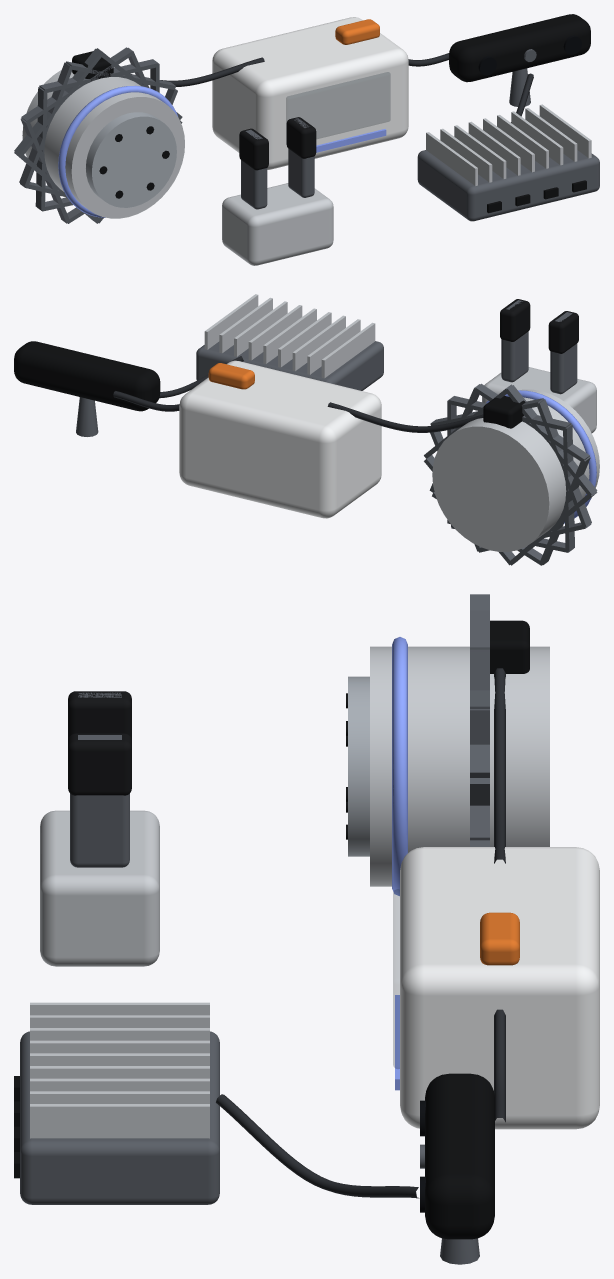
File: robotModules.glb
The picture shows the model from 3 angles, top to bottom: view 1: azimuth 30°, elevation 25°; view 2: azimuth 150°, elevation 25°; view 3: azimuth 270°, elevation 25°; orthographic projection. The views are drawn at different scales.
Parts seen in each view (by area): view 1: pack, housing, computeModule, base, output, case, actuator, body, window, fingerB, fingerA, encoder (+6 smaller); view 2: pack, housing, computeModule, actuator, body, case, fingerA, fingerB, base, encoder, linkActBat, connector (+3 smaller); view 3: pack, housing, computeModule, case, base, body, fingerB, actuator, output, encoder, fingerA, linkSenCmp (+6 smaller).
Boxes of the visible parts, x1,y1,x2,y2 form: pack: [212, 17, 408, 169]; housing: [22, 67, 184, 218]; computeModule: [426, 104, 591, 185]; base: [222, 183, 333, 265]; output: [86, 112, 176, 207]; case: [417, 150, 599, 221]; actuator: [14, 47, 182, 223]; body: [449, 14, 590, 82]; window: [286, 72, 390, 143]; fingerB: [286, 117, 316, 197]; fingerA: [239, 128, 268, 209]; encoder: [58, 85, 177, 217]; pack: [179, 360, 381, 518]; housing: [432, 389, 599, 551]; computeModule: [204, 294, 375, 378]; actuator: [424, 383, 597, 565]; body: [14, 341, 160, 411]; case: [196, 341, 383, 390]; fingerA: [548, 311, 578, 394]; fingerB: [500, 299, 530, 382]; base: [482, 367, 596, 433]; encoder: [486, 390, 596, 523]; linkActBat: [327, 402, 483, 432]; connector: [483, 396, 525, 428]; pack: [400, 847, 599, 1129]; housing: [370, 646, 549, 886]; computeModule: [30, 1002, 209, 1138]; case: [20, 1031, 219, 1204]; base: [40, 810, 159, 966]; body: [425, 1073, 494, 1239]; fingerB: [68, 733, 131, 867]; actuator: [470, 594, 489, 846]; output: [346, 676, 369, 856]; encoder: [392, 637, 407, 896]; fingerA: [68, 691, 131, 739]; linkSenCmp: [216, 1094, 419, 1198].
Bounding box in the file's own units: 0.5963 × 0.1725 × 0.293.
